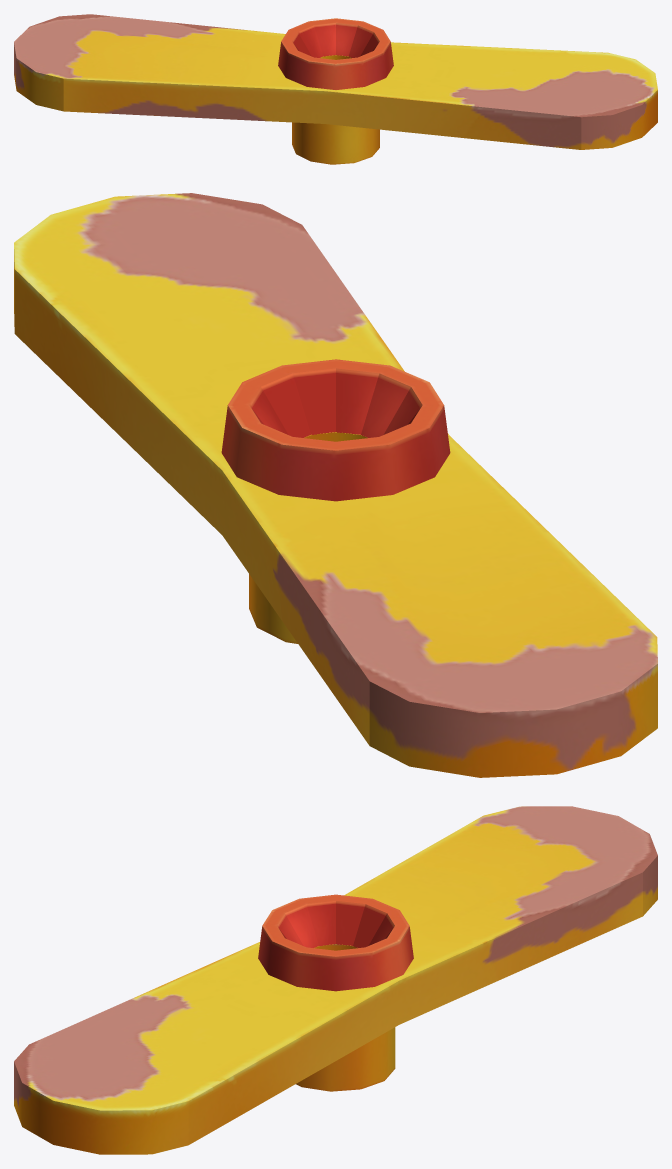
Rendered from zhishengji02.FBX.
3 views of the same model, one above another, from view 1: azimuth 30°, elevation 25°; view 2: azimuth 150°, elevation 25°; view 3: azimuth 270°, elevation 25° (orthographic). The views are drawn at different scales.
Parts seen in each view (by area): view 1: zhishengji02; view 2: zhishengji02; view 3: zhishengji02.
Part boxes in pixels (bbox=[...]): zhishengji02: bbox=[14, 14, 657, 164]; zhishengji02: bbox=[14, 193, 657, 777]; zhishengji02: bbox=[14, 806, 657, 1154].
Size of the model in its own units: 52.9 by 11.42 by 47.29.
